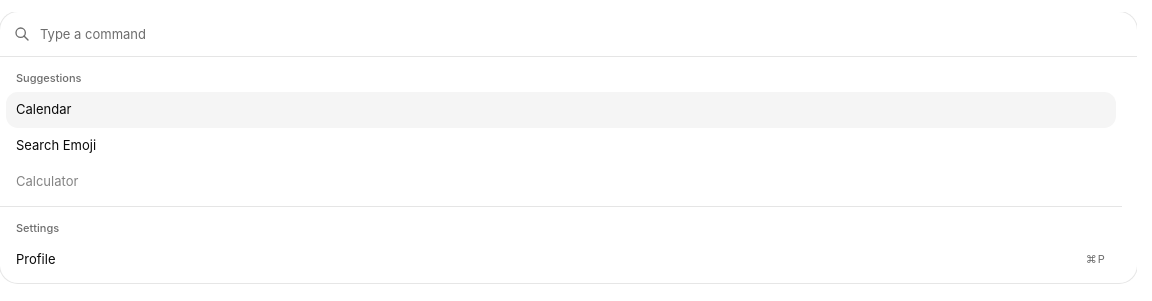
Test: Command › does not match items through the letters of their shortcut
Type "⌘" into the dropdown. click: point(568, 34)
box: [40,12,1095,56]
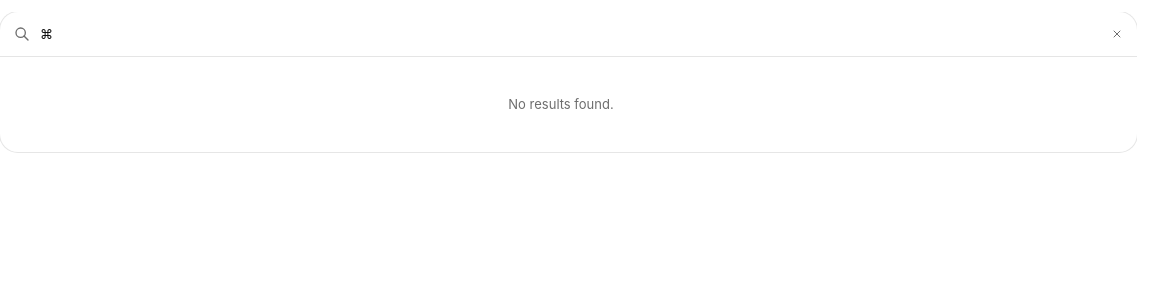
Check: the option "Profile" is gone
